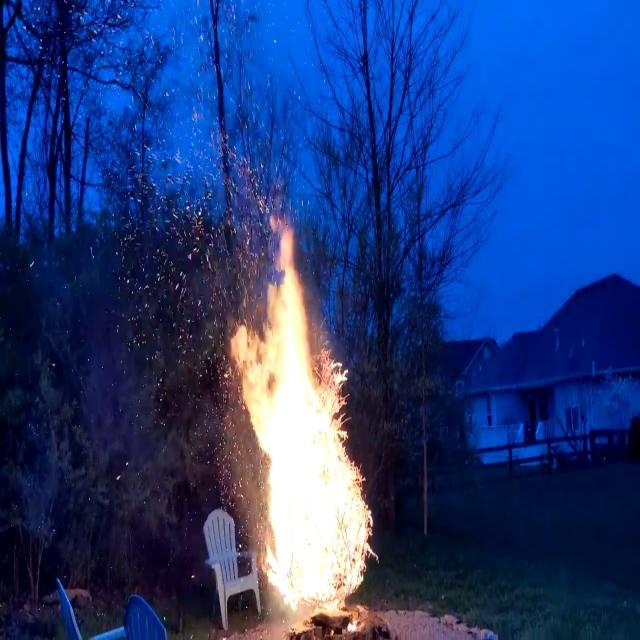Fire: (226, 230, 381, 614)
